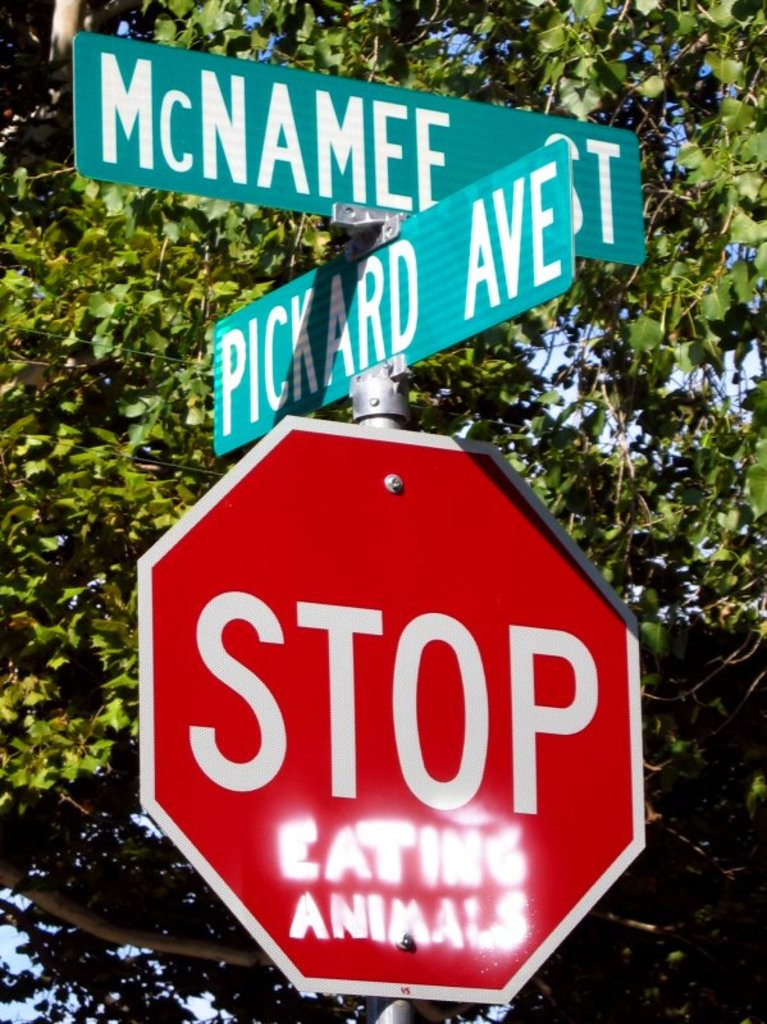stop_sign: (139, 418, 641, 1000)
